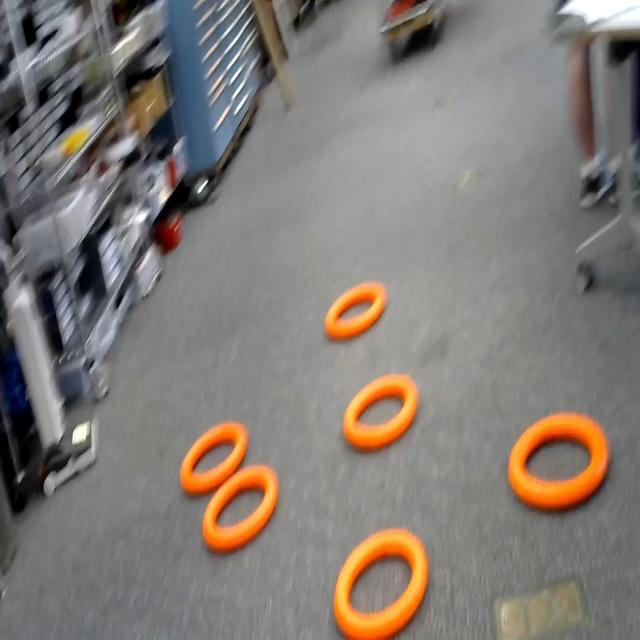note: (334, 526, 432, 640), (505, 410, 614, 510), (340, 367, 424, 457), (206, 482, 279, 550), (176, 420, 248, 478), (322, 278, 389, 338)
